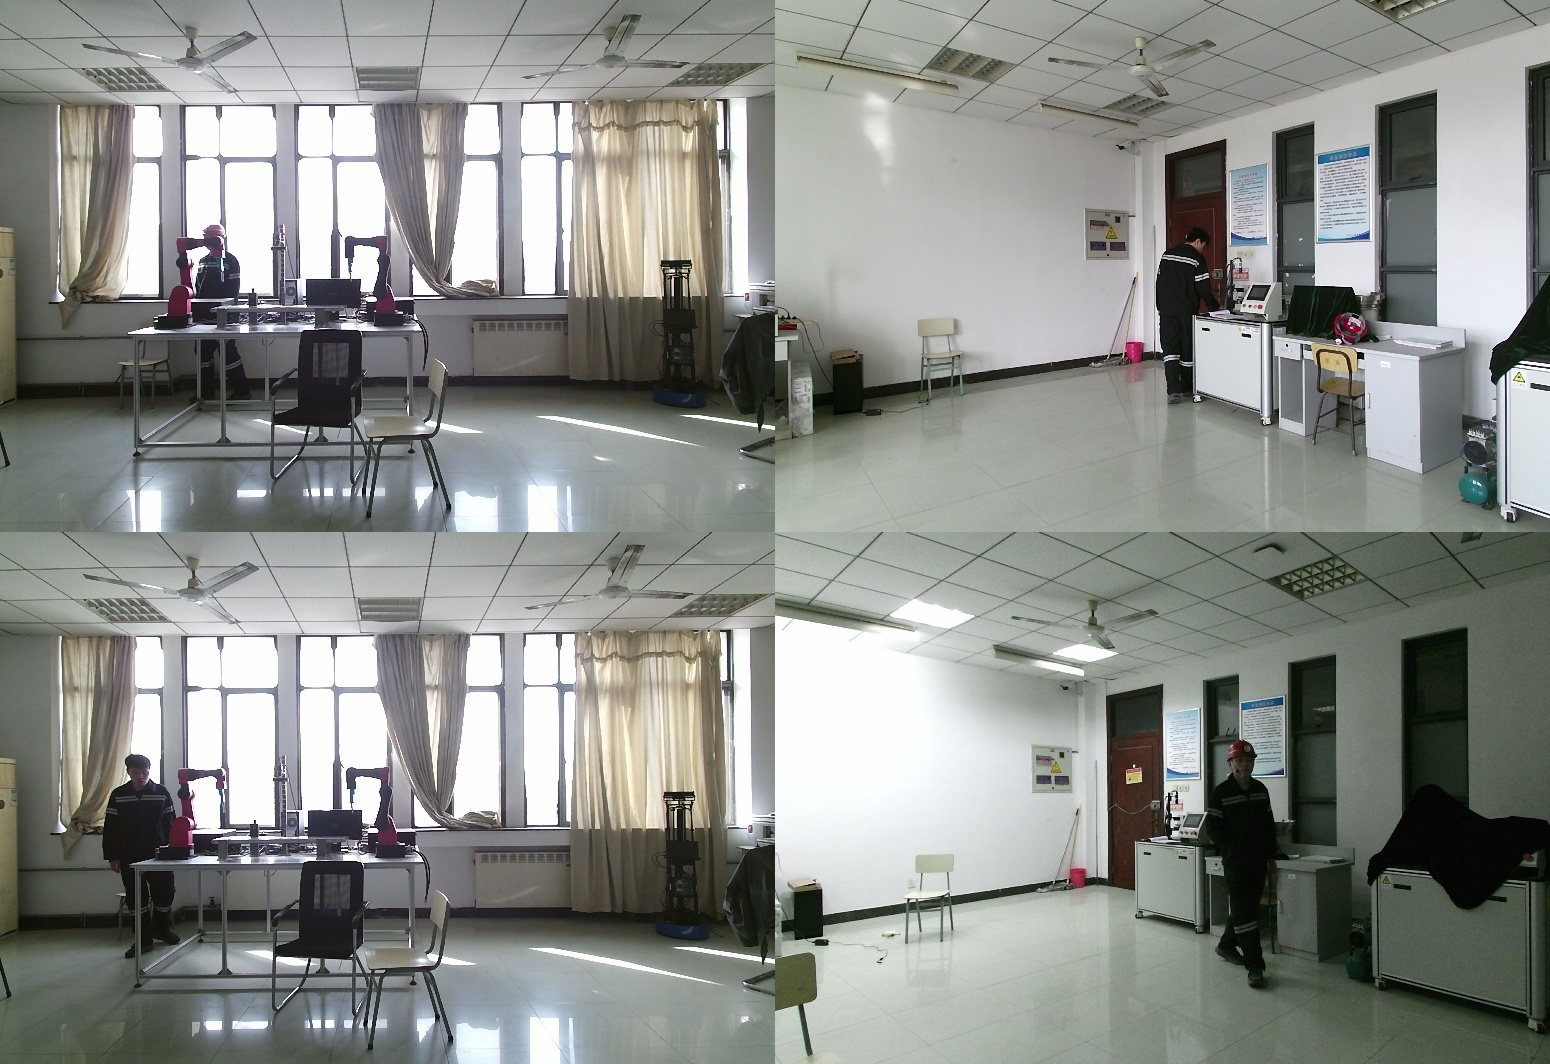person: (1200, 741, 1282, 990), (96, 754, 185, 957), (1156, 235, 1223, 409), (192, 224, 249, 405)
